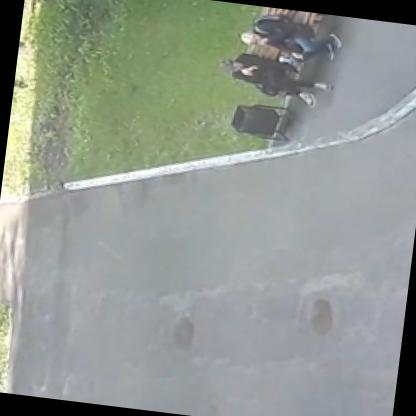Human Body: (225, 2, 359, 70), (214, 45, 336, 113)
